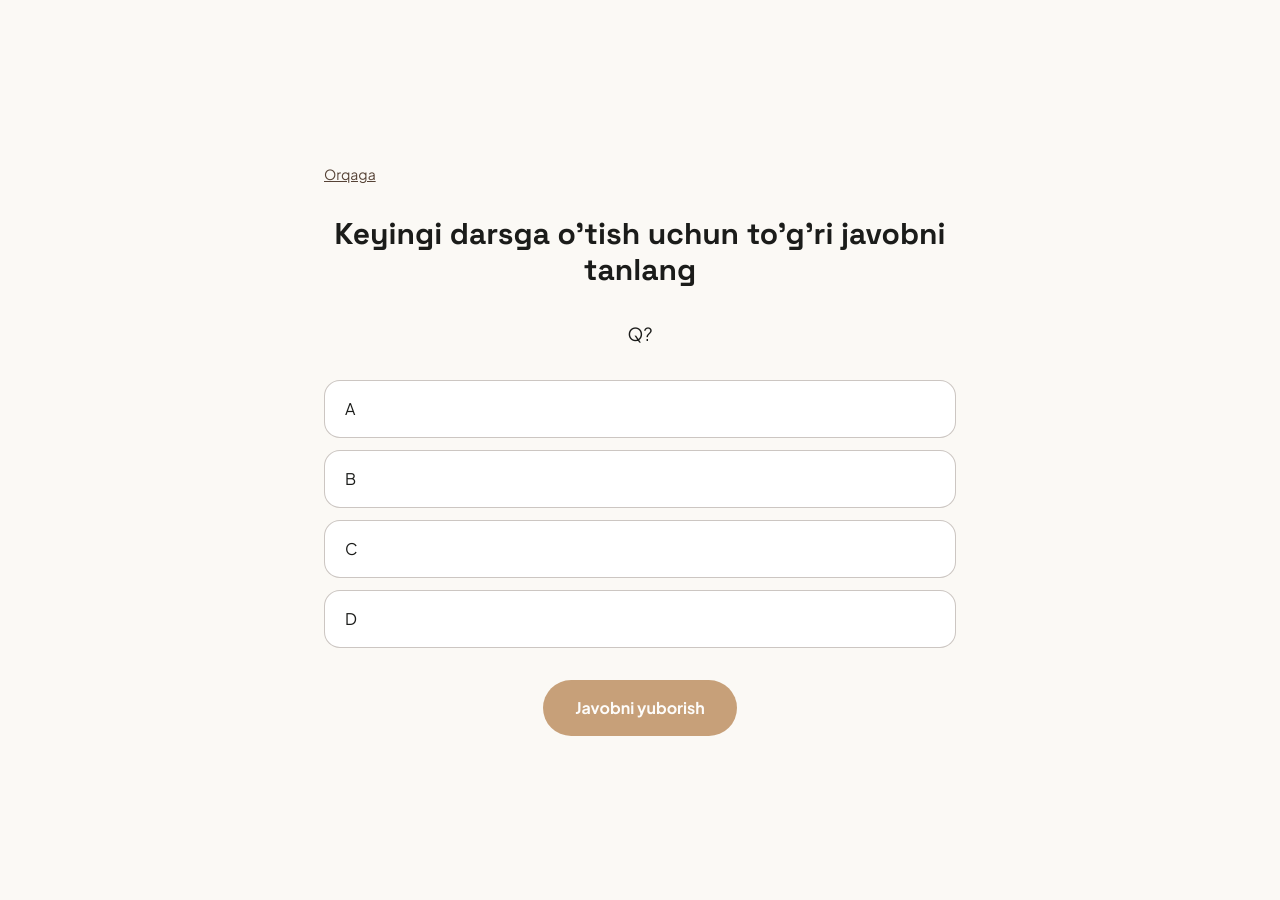
Test: QuizModal › shows "wrong" message on failed submit
Click the button "A" at (350, 408), box left=324, top=380, right=956, bottom=438
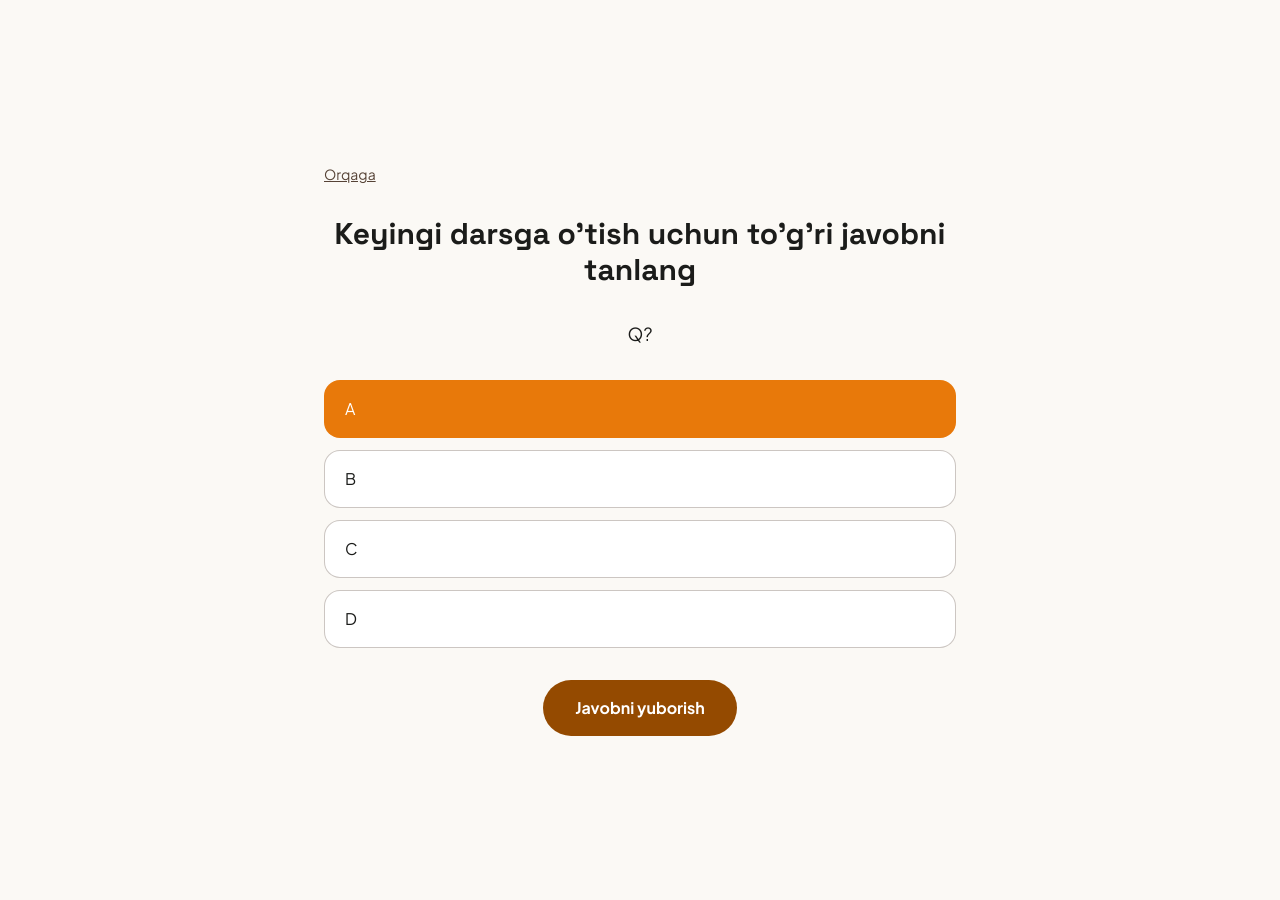
Click the button "Javobni yuborish" at (640, 708), box left=543, top=680, right=737, bottom=736
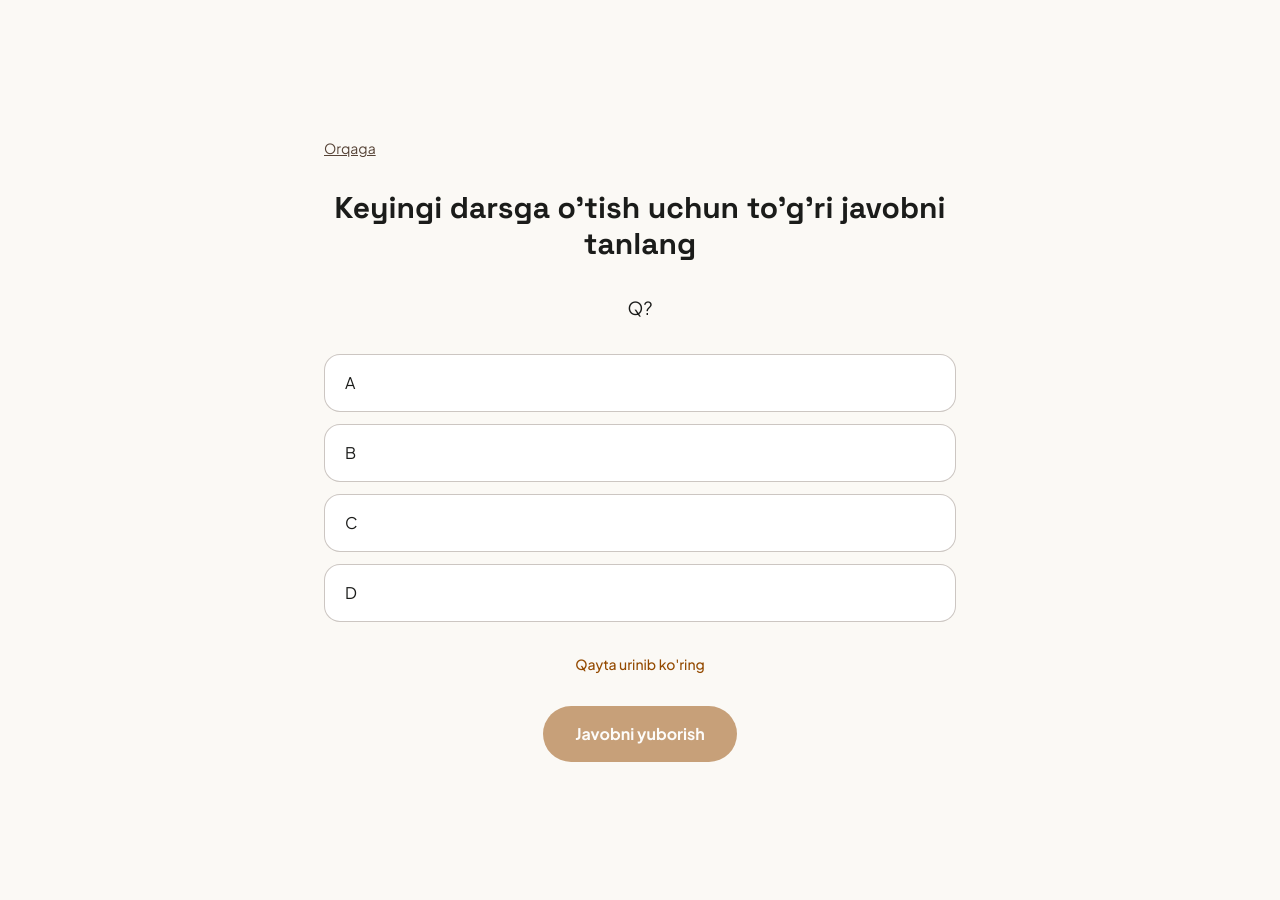
Now the message "Qayta urinib ko'ring" is shown, box left=575, top=654, right=705, bottom=674
Now the message shows "Qayta urinib", box left=575, top=655, right=705, bottom=673
